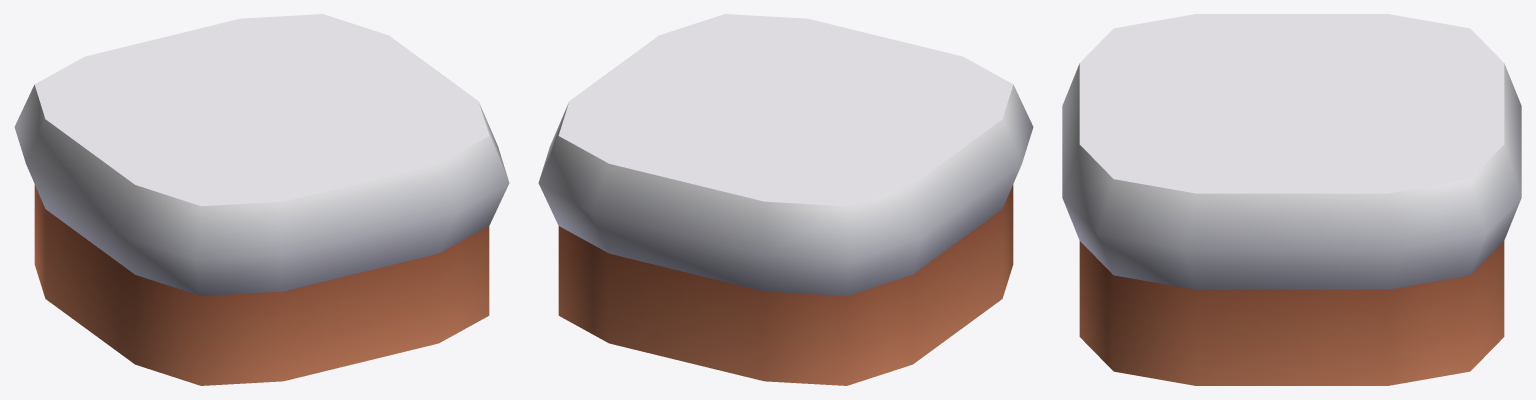
The model's file is kenney-platformer-block-snow-low.glb.
The picture shows the model from 3 angles, left to right: view 1: azimuth 30°, elevation 25°; view 2: azimuth 150°, elevation 25°; view 3: azimuth 270°, elevation 25°; orthographic projection. The views are drawn at different scales.
Visible parts, largest first — view 1: block-snow-low; view 2: block-snow-low; view 3: block-snow-low.
Boxes of the visible parts, x1,y1,x2,y2 form: block-snow-low: (14, 14, 509, 385); block-snow-low: (538, 14, 1033, 385); block-snow-low: (1062, 14, 1521, 385).
Bounding box in the file's own units: 1.08 × 0.5 × 1.08.
1 material, 1 textured.
